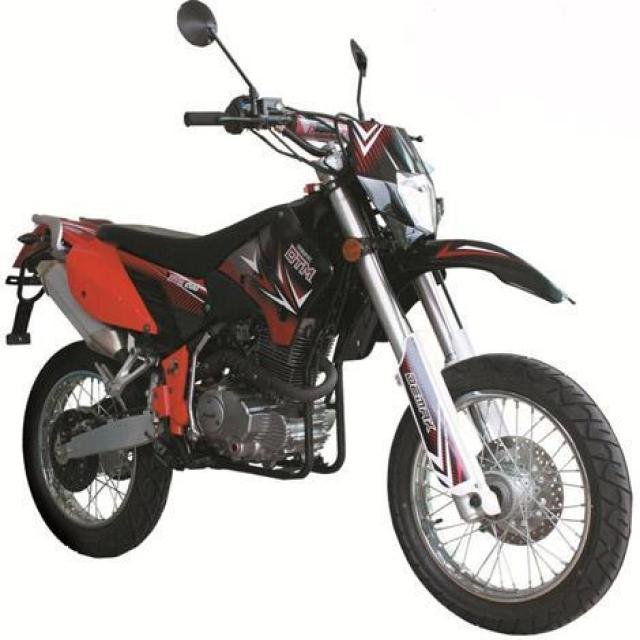motorcycle: (6, 16, 617, 628)
